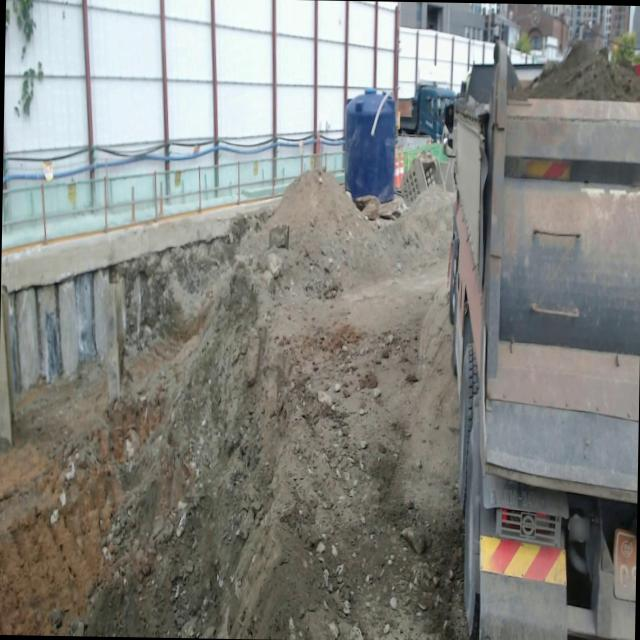red-sand: (0, 176, 468, 640), (525, 41, 640, 102)
